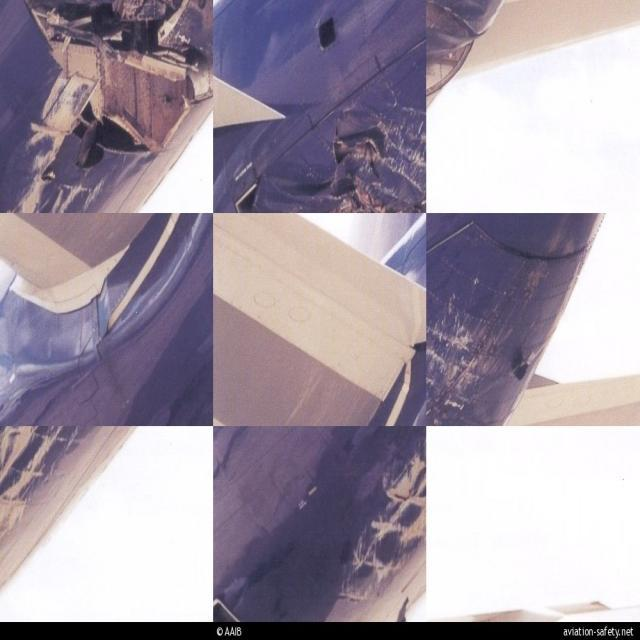crack: (37, 2, 210, 167)
dent: (264, 127, 396, 212)
